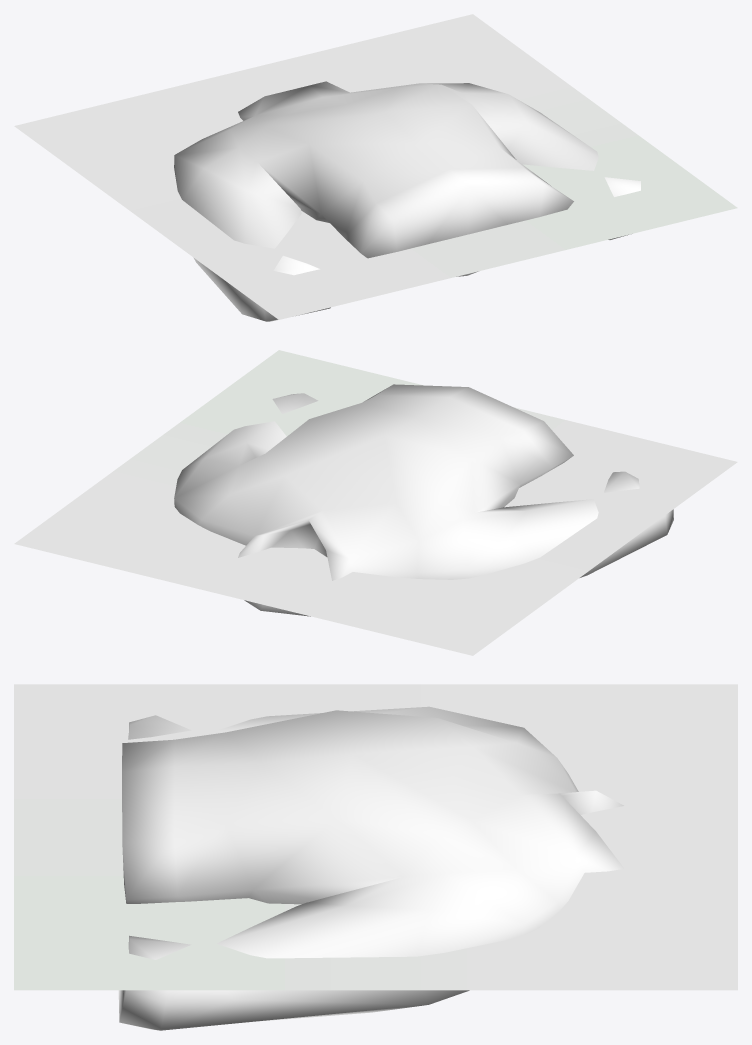
Rendered from ITAR_MIL_R_01.glb.
The picture shows the model from 3 angles, top to bottom: view 1: azimuth 30°, elevation 25°; view 2: azimuth 150°, elevation 25°; view 3: azimuth 270°, elevation 25°; orthographic projection. The views are drawn at different scales.
Parts seen in each view (by area): view 1: Mesh; view 2: Mesh; view 3: Mesh.
Boxes of the visible parts, x1=… form: Mesh: x1=14, y1=14, x2=737, y2=321; Mesh: x1=14, y1=350, x2=737, y2=655; Mesh: x1=14, y1=684, x2=737, y2=1030.
Size of the model in its own units: 0.7534 by 0.1805 by 0.7534.
2 materials, 1 textured.
